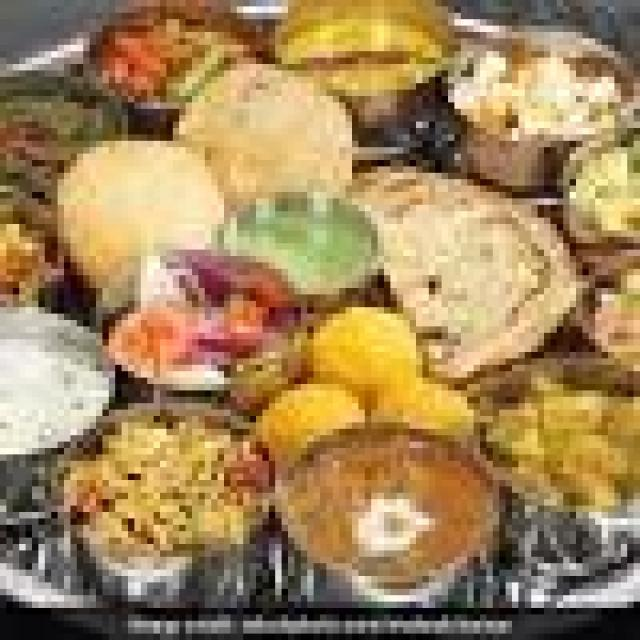papad: (369, 160, 578, 381), (468, 294, 640, 534), (441, 25, 634, 172)
rice: (0, 302, 112, 461)
roti: (72, 392, 248, 573)
sweet: (91, 296, 227, 394)
